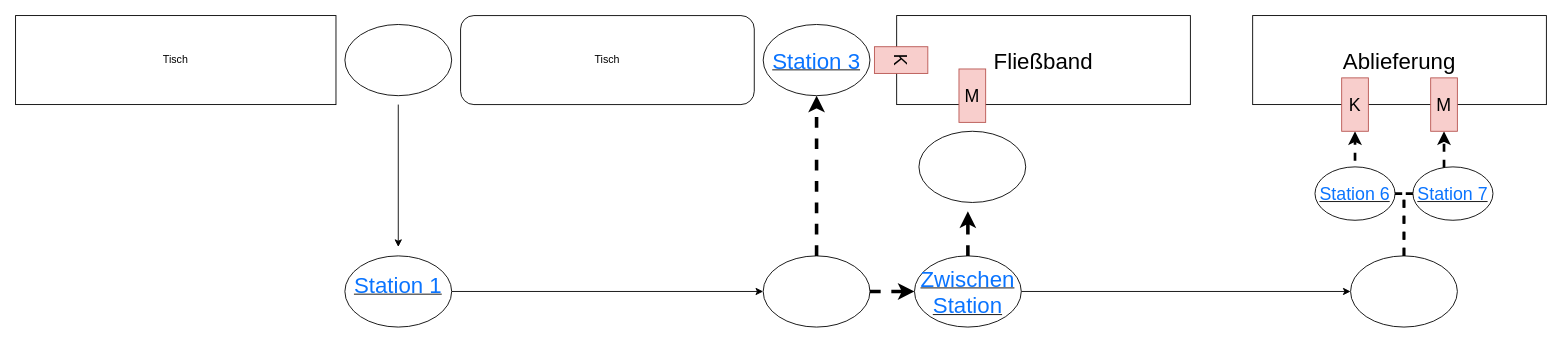
This 1562x343 diagram has some shape labels left out. The centre of each missing label's shape, as x and y in pixels:
"Base 0x 0y" belongs at point 398,60.
"Station 2" belongs at point 816,291.
"Station 4" belongs at point 972,166.
"Station 5" belongs at point 1403,291.
